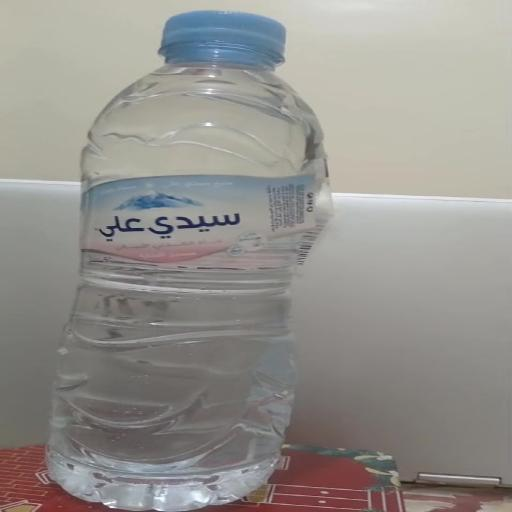bouteille conformite: (47, 1, 298, 509)
